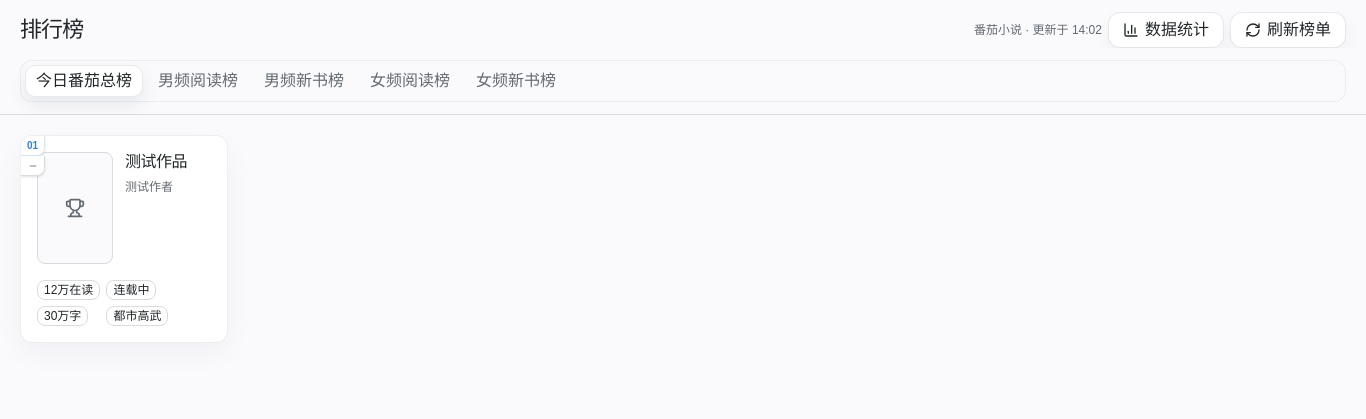
it: LeaderboardPage › 切换到单分类后隐藏数据统计入口
Expected: the heading "测试作品" is shown, top-left (125, 152), bottom-right (187, 171)
Click the button "男频阅读榜". click: (198, 81)
box: top-left (147, 65), bottom-right (249, 97)
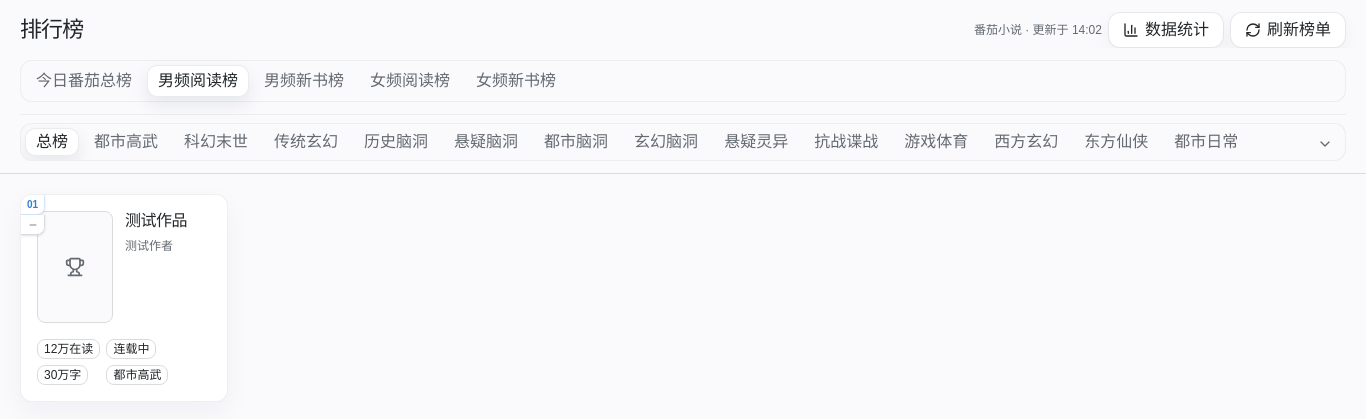
Click the button "都市高武". click: (126, 142)
box: top-left (83, 128), bottom-right (169, 156)
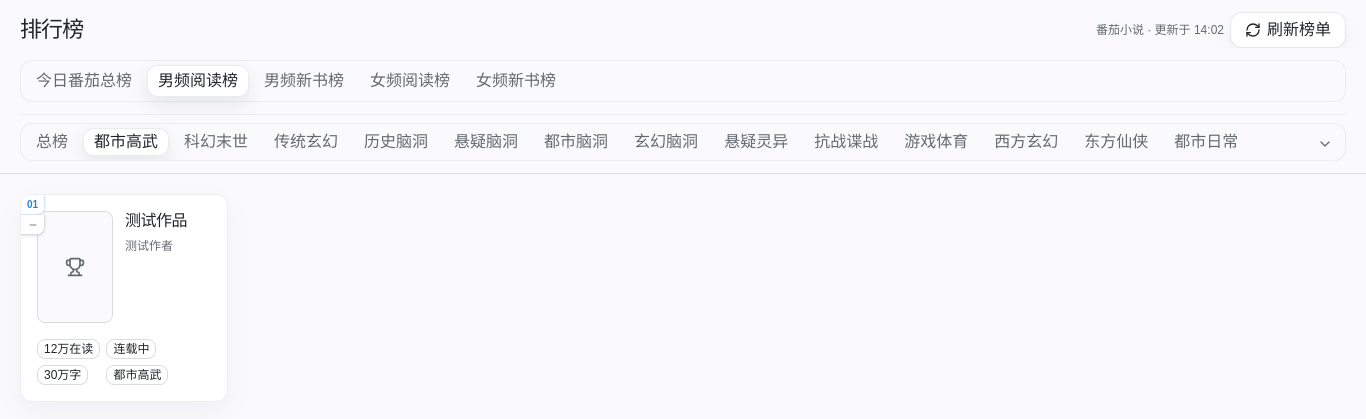
Now the button "数据统计" is gone
